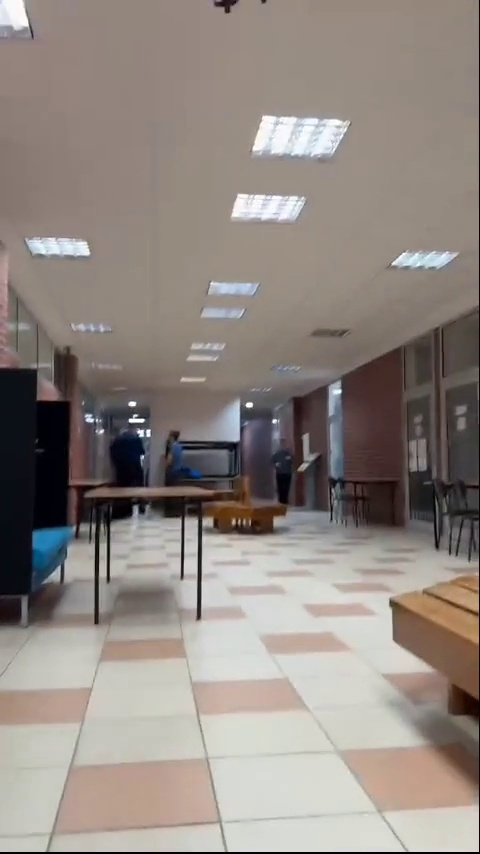no vest: (108, 421, 152, 494), (164, 428, 204, 488), (273, 430, 298, 499)
